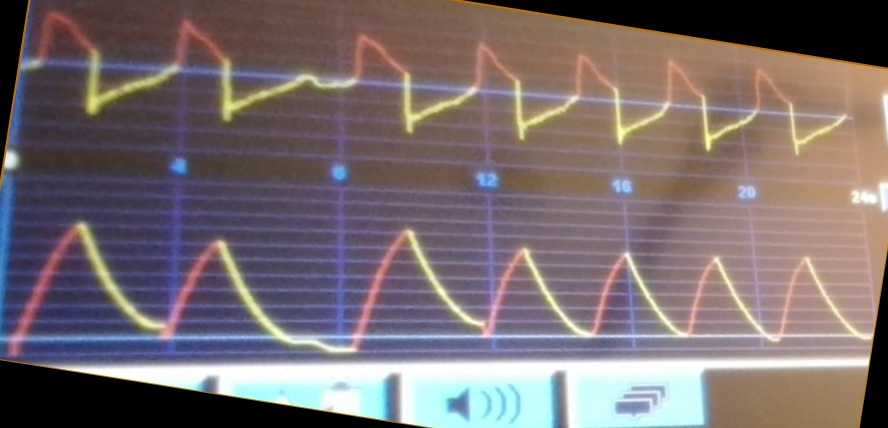Ineffective_effort Flow: (29, 6, 855, 155)
Ineffective_effort Volume: (9, 208, 866, 354)
